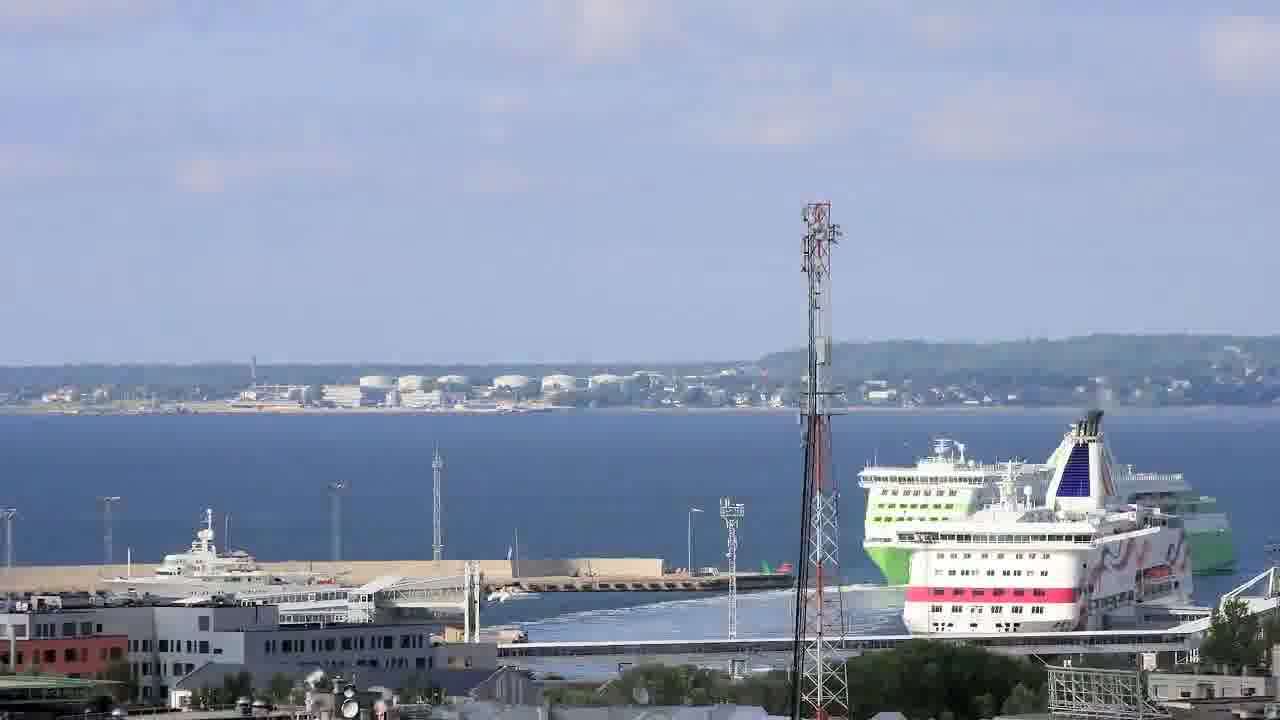type-3: (868, 415, 1225, 638), (856, 445, 1244, 590), (84, 511, 353, 609)
